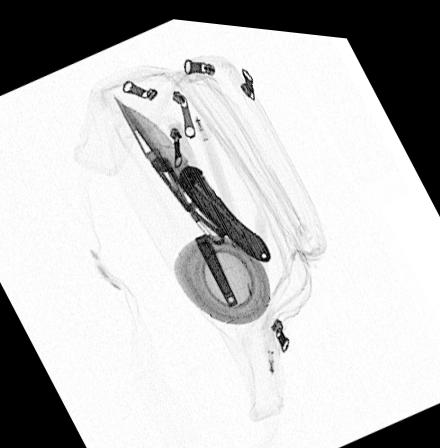Knife: (123, 100, 272, 255), (114, 91, 226, 240)
